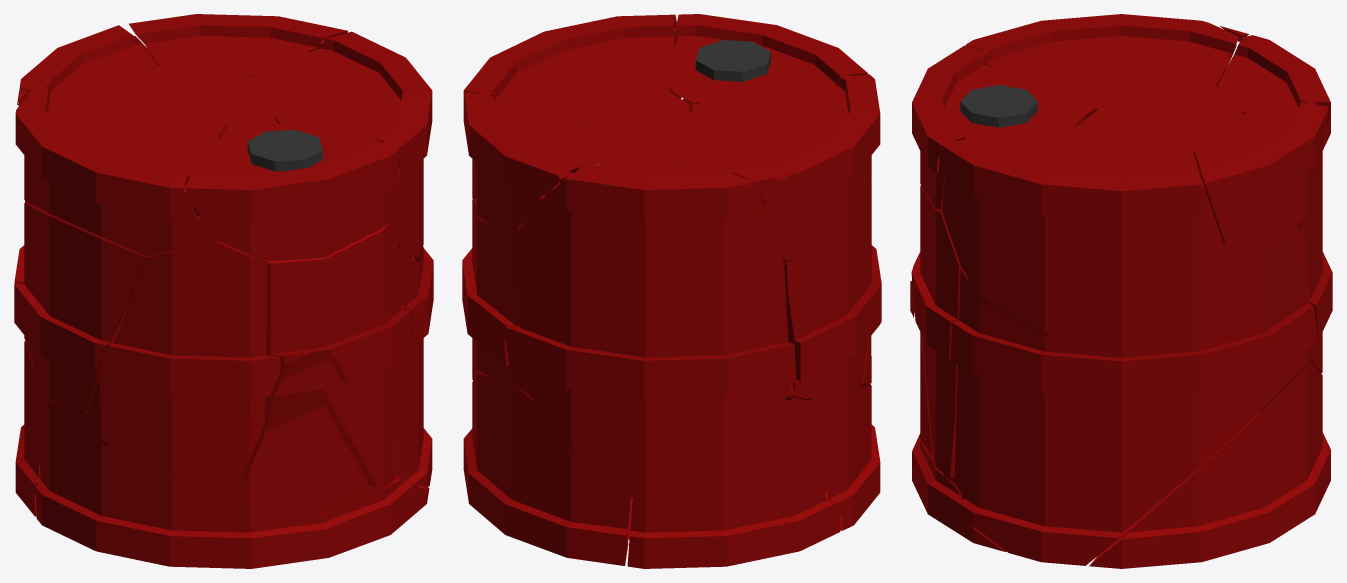
File: Barrel_Shattered.fbx
3 views of the same model, side by side, from view 1: azimuth 30°, elevation 25°; view 2: azimuth 150°, elevation 25°; view 3: azimuth 270°, elevation 25° (orthographic).
Visible parts, largest first — view 1: Cylinder.001_cell.002, Cylinder.001_cell.006, Cylinder.001_cell.007, Cylinder.001_cell.016, Cylinder.001_cell.019, Cylinder.001_cell.011, Cylinder.001_cell.004, Cylinder.001_cell.014, Cylinder.001_cell.009, Cylinder.001_cell, Cylinder.001_cell.010, Cylinder.001_cell.015 (+4 smaller); view 2: Cylinder.001_cell, Cylinder.001_cell.013, Cylinder.001_cell.007, Cylinder.001_cell.005, Cylinder.001_cell.011, Cylinder.001_cell.004, Cylinder.001_cell.014, Cylinder.001_cell.019, Cylinder.001_cell.010, Cylinder.001_cell.006, Cylinder.001_cell.015, Cylinder.001_cell.012 (+2 smaller); view 3: Cylinder.001_cell.010, Cylinder.001_cell.011, Cylinder.001_cell.005, Cylinder.001_cell.007, Cylinder.001_cell.014, Cylinder.001_cell.019, Cylinder.001_cell, Cylinder.001_cell.016, Cylinder.001_cell.015, Cylinder.001_cell.006, Cylinder.001_cell.012, Cylinder.001_cell.009.
Boxes of the visible parts, left/top/right/bottom form: Cylinder.001_cell.002: left=84, top=241, right=280, bottom=486; Cylinder.001_cell.006: left=35, top=378, right=429, bottom=568; Cylinder.001_cell.007: left=15, top=87, right=226, bottom=256; Cylinder.001_cell.016: left=254, top=224, right=410, bottom=486; Cylinder.001_cell.019: left=185, top=121, right=399, bottom=261; Cylinder.001_cell.011: left=251, top=31, right=432, bottom=257; Cylinder.001_cell.004: left=14, top=203, right=147, bottom=419; Cylinder.001_cell.014: left=128, top=14, right=347, bottom=76; Cylinder.001_cell.009: left=243, top=405, right=370, bottom=512; Cylinder.001_cell: left=14, top=25, right=174, bottom=303; Cylinder.001_cell.010: left=174, top=116, right=433, bottom=486; Cylinder.001_cell.015: left=124, top=66, right=268, bottom=120; Cylinder.001_cell: left=504, top=159, right=796, bottom=497; Cylinder.001_cell.013: left=627, top=397, right=840, bottom=568; Cylinder.001_cell.007: left=680, top=74, right=880, bottom=261; Cylinder.001_cell.005: left=463, top=373, right=630, bottom=565; Cylinder.001_cell.011: left=463, top=14, right=681, bottom=198; Cylinder.001_cell.004: left=783, top=181, right=881, bottom=400; Cylinder.001_cell.014: left=464, top=92, right=607, bottom=233; Cylinder.001_cell.019: left=669, top=14, right=867, bottom=103; Cylinder.001_cell.010: left=462, top=164, right=599, bottom=400; Cylinder.001_cell.006: left=628, top=383, right=880, bottom=539; Cylinder.001_cell.015: left=581, top=90, right=689, bottom=158; Cylinder.001_cell.012: left=695, top=40, right=770, bottom=81; Cylinder.001_cell.010: left=950, top=224, right=1316, bottom=565; Cylinder.001_cell.011: left=938, top=126, right=1226, bottom=333; Cylinder.001_cell.005: left=1089, top=362, right=1330, bottom=568; Cylinder.001_cell.007: left=965, top=14, right=1239, bottom=108; Cylinder.001_cell.014: left=1191, top=102, right=1328, bottom=253; Cylinder.001_cell.019: left=912, top=45, right=1094, bottom=209; Cylinder.001_cell: left=1201, top=35, right=1332, bottom=374; Cylinder.001_cell.016: left=911, top=185, right=966, bottom=478; Cylinder.001_cell.015: left=1082, top=86, right=1246, bottom=138; Cylinder.001_cell.006: left=912, top=433, right=1233, bottom=551; Cylinder.001_cell.012: left=960, top=85, right=1037, bottom=127; Cylinder.001_cell.009: left=920, top=332, right=933, bottom=456.
Bounding box in the file's own units: 30.1 × 29.82 × 30.1.
